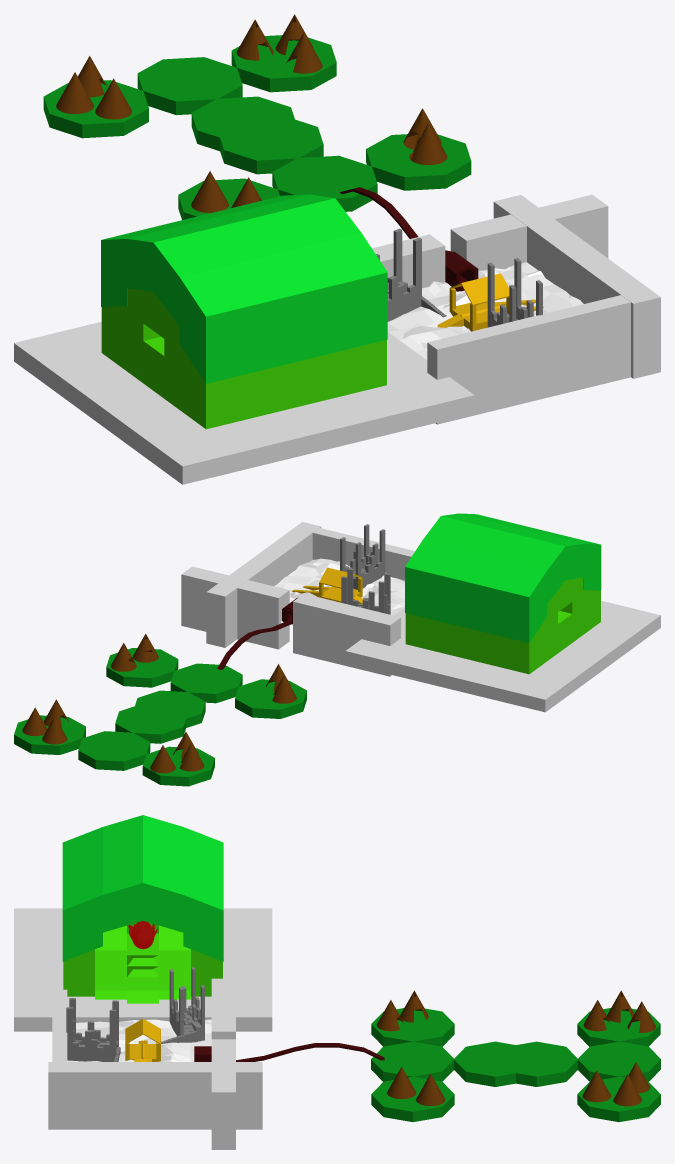
The model's file is map05.glb.
3 renders of one model, top to bottom at view 1: azimuth 30°, elevation 25°; view 2: azimuth 150°, elevation 25°; view 3: azimuth 270°, elevation 25°, orthographic. The views are drawn at different scales.
Parts seen in each view (by area): view 1: Cube.011, Cube.006, Cube.002, Cube.005, Cone.007, Cube.004, Plane, Cube.001; view 2: Cube.011, Cube.006, Cube.002, Cube.005, Cone.007, Cube.004, Plane, Cube.001; view 3: Cube.011, Cube.006, Cube.002, Cube.005, Cube.004, Cone.007, Plane, Cube.001, Sphere.
Boxes of the visible parts, x1,y1,x2,y2 form: Cube.011: [101, 194, 387, 429]; Cube.006: [372, 194, 660, 424]; Cube.002: [43, 35, 471, 219]; Cube.005: [14, 321, 474, 484]; Cone.007: [56, 14, 447, 212]; Cube.004: [376, 228, 543, 331]; Plane: [387, 262, 583, 360]; Cube.001: [340, 187, 478, 291]; Cube.011: [405, 513, 601, 674]; Cube.006: [181, 522, 414, 676]; Cube.002: [14, 648, 306, 786]; Cube.005: [345, 600, 660, 712]; Cone.007: [22, 634, 296, 773]; Cube.004: [291, 524, 390, 614]; Plane: [274, 558, 404, 625]; Cube.001: [217, 597, 297, 669]; Cube.011: [62, 815, 223, 1003]; Cube.006: [48, 978, 262, 1149]; Cube.002: [371, 1008, 660, 1122]; Cube.005: [14, 908, 272, 1031]; Cube.004: [66, 967, 204, 1061]; Cone.007: [376, 990, 655, 1106]; Plane: [67, 1019, 211, 1061]; Cube.001: [194, 1043, 384, 1061]; Sphere: [128, 921, 157, 949].
Size of the model in its own units: 298 by 99.11 by 392.
